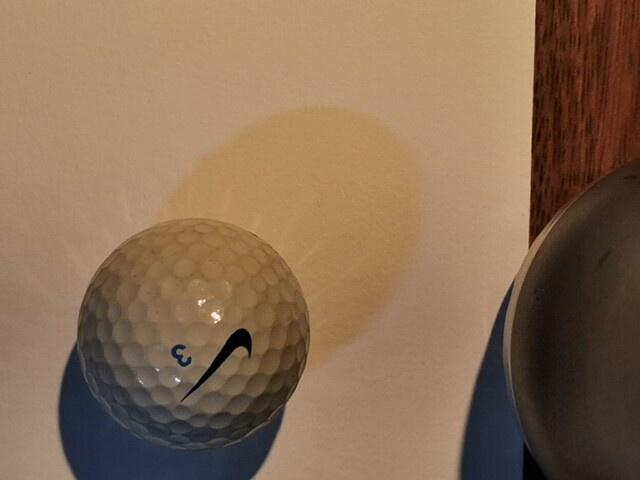Ball: (76, 217, 310, 452)
Nike: (179, 327, 252, 404)
